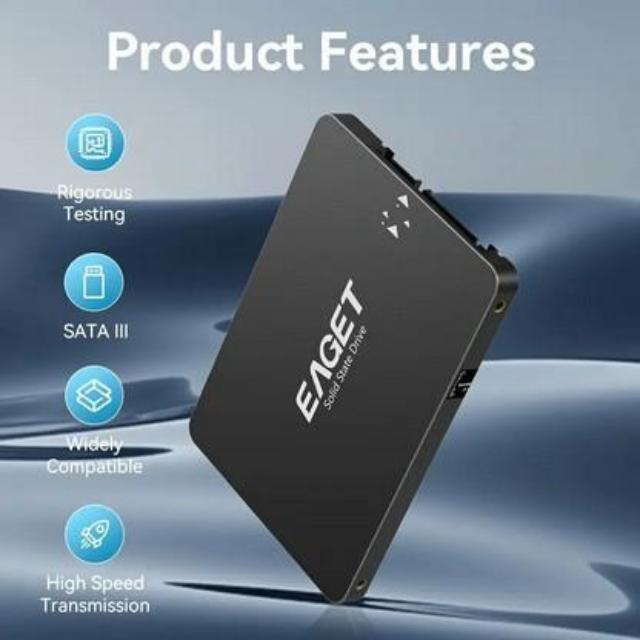DISK: (184, 100, 524, 608)
